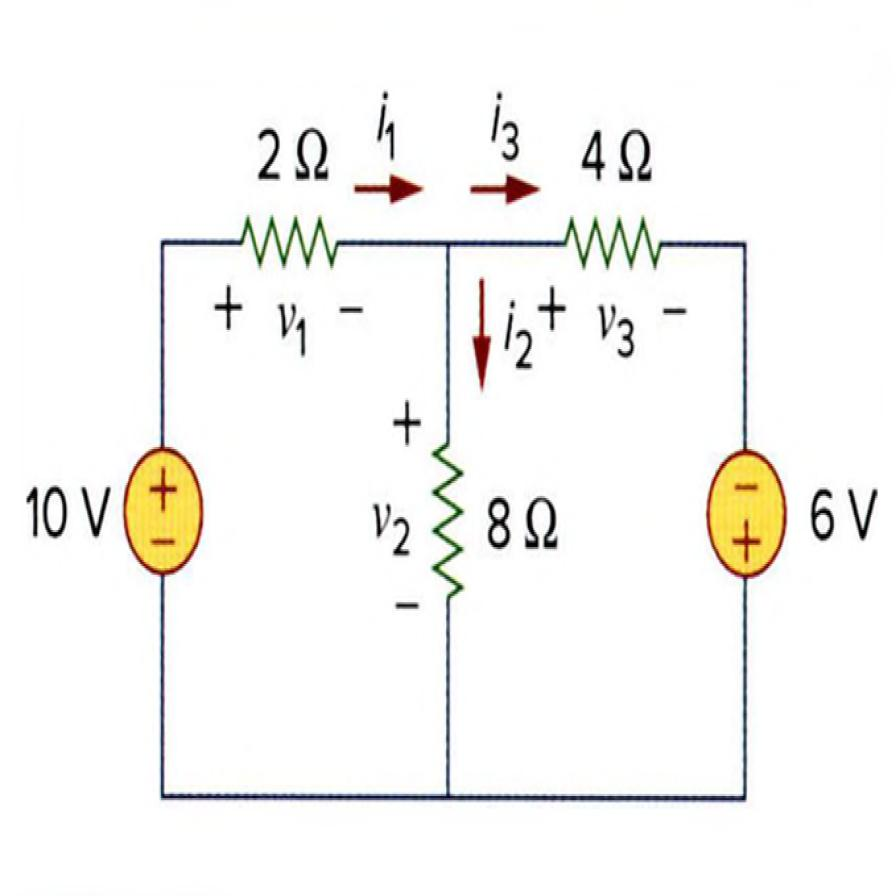R1: (554, 190, 667, 294), (232, 191, 340, 283)
R2: (416, 439, 480, 608)
V1: (113, 441, 208, 585)
V3: (692, 436, 792, 596)
